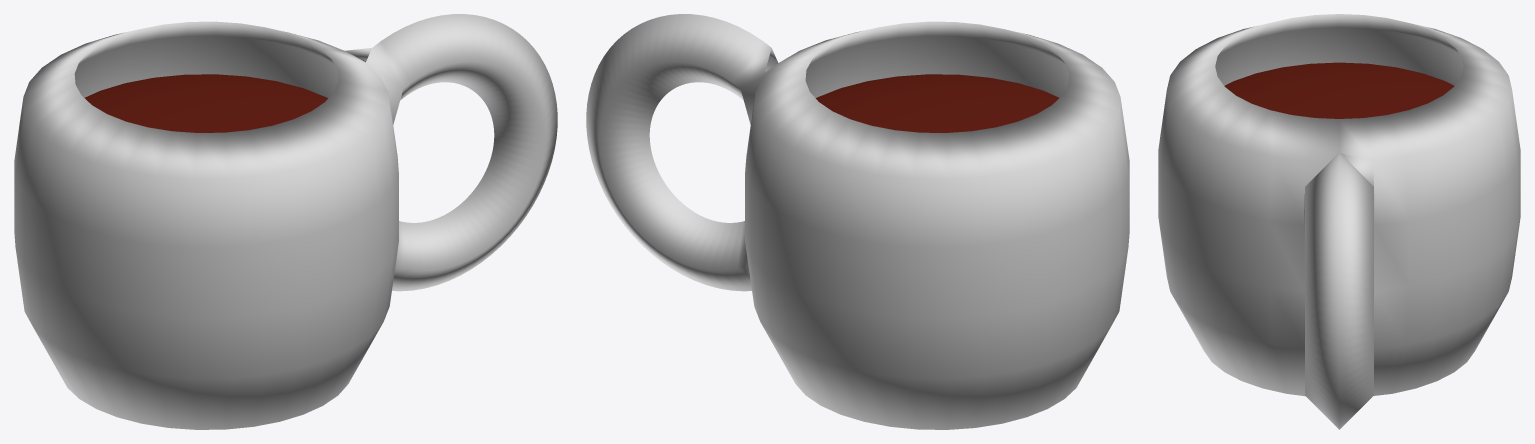
Rendered from cup.gltf.
3 views of the same model, side by side, from view 1: azimuth 30°, elevation 25°; view 2: azimuth 150°, elevation 25°; view 3: azimuth 270°, elevation 25° (orthographic). The views are drawn at different scales.
Parts seen in each view (by area): view 1: NurbsPath, Sphere; view 2: NurbsPath, Sphere; view 3: NurbsPath, Sphere.
Part boxes in pixels (left/top/right/bottom): NurbsPath: left=14, top=14, right=557, bottom=429; Sphere: left=85, top=74, right=327, bottom=132; NurbsPath: left=586, top=14, right=1129, bottom=429; Sphere: left=816, top=74, right=1058, bottom=132; NurbsPath: left=1158, top=14, right=1520, bottom=429; Sphere: left=1224, top=62, right=1454, bottom=118.
Size of the model in its own units: 3.26 by 1.78 by 2.1.
